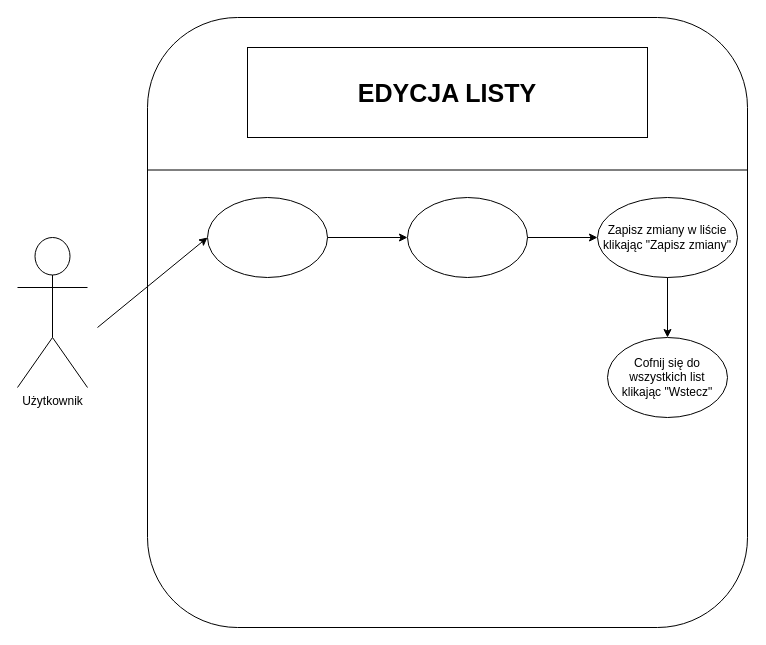
The diagram is 766 pixels wide and 645 high, and some of its shapes have lost their labels. The centre of each missing label's shape, as x and y in pixels:
Kliknij "Edytuj listę": pixel 267 237
Wprowadź zmiany w liście: pixel 467 237
